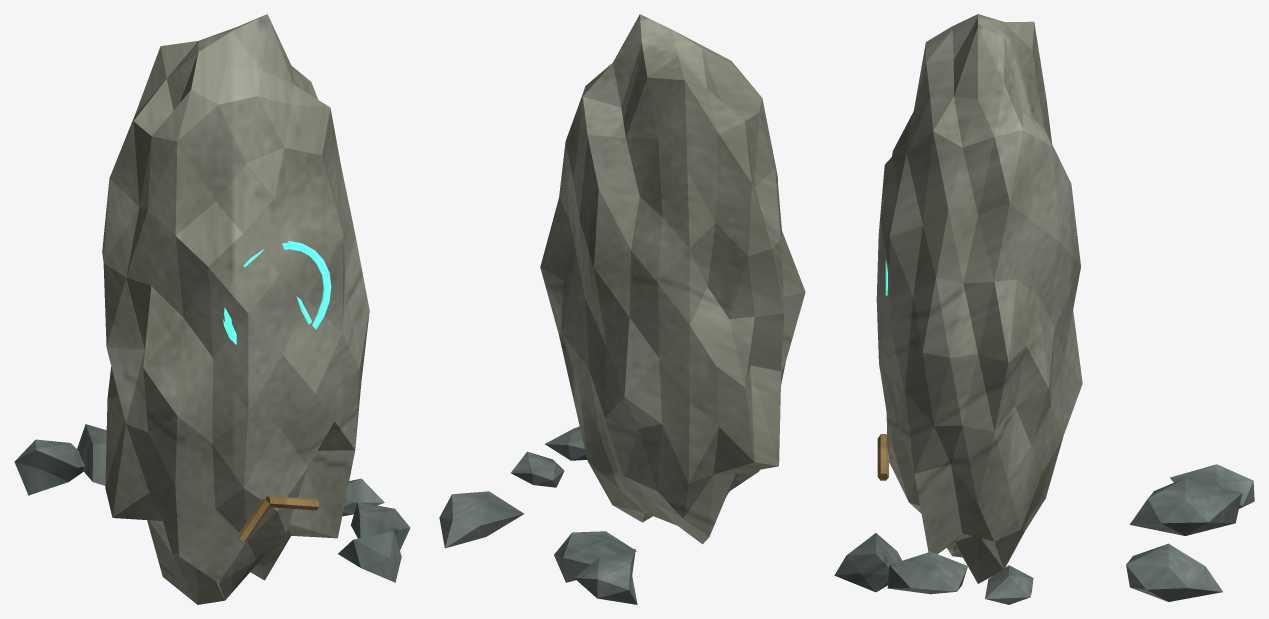
File: 0675_waystone_25.glb
The picture shows the model from 3 angles, left to right: view 1: azimuth 30°, elevation 25°; view 2: azimuth 150°, elevation 25°; view 3: azimuth 270°, elevation 25°; orthographic projection. The views are drawn at different scales.
Parts seen in each view (by area): view 1: stone_light, stone, glow, brass; view 2: stone_light, stone; view 3: stone_light, stone.
Part boxes in pixels (box(x1,y1,x2,y2)): stone_light: box(102, 14, 369, 604); stone: box(14, 424, 410, 582); glow: box(223, 241, 331, 344); brass: box(237, 496, 318, 542); stone_light: box(540, 14, 805, 544); stone: box(439, 426, 637, 604); stone_light: box(876, 14, 1082, 583); stone: box(834, 464, 1254, 604).
Size of the model in its own units: 1.15 by 2.25 by 1.51.
Materials: 4 (4 with a texture image).
